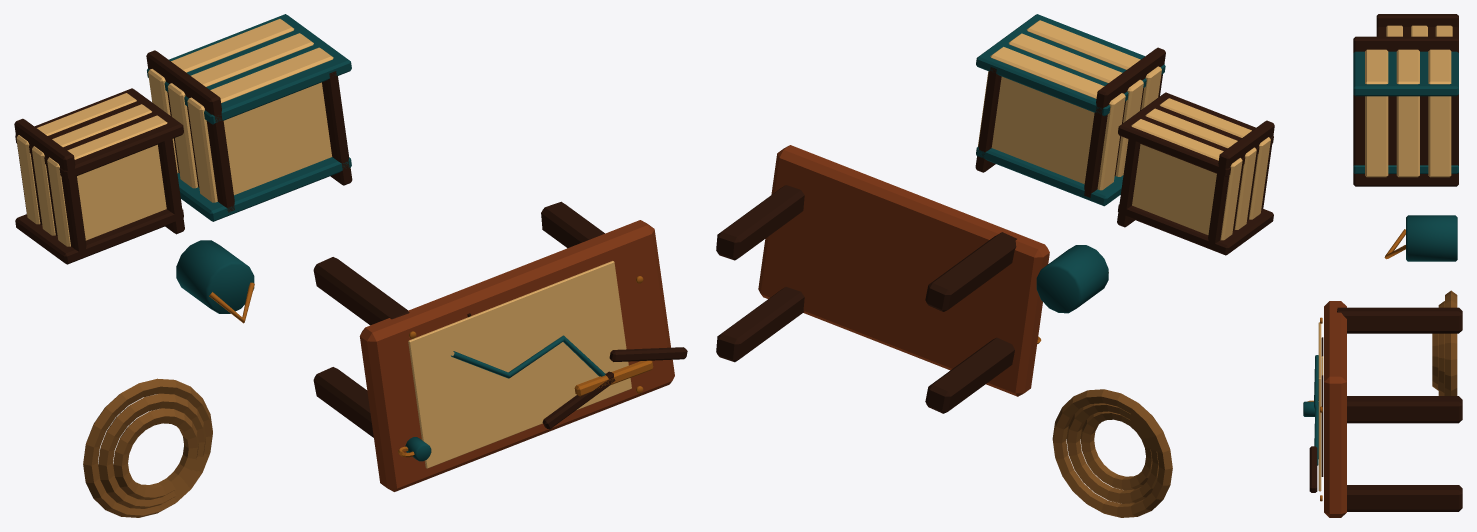
The model's file is SM_LT_HubSlice_WorkCluster.obj.
3 views of the same model, side by side, from view 1: azimuth 30°, elevation 25°; view 2: azimuth 150°, elevation 25°; view 3: azimuth 270°, elevation 25° (orthographic). The views are drawn at different scales.
Parts seen in each view (by area): view 1: SM_LT_HubSlice_WorkCluster.001; view 2: SM_LT_HubSlice_WorkCluster.001; view 3: SM_LT_HubSlice_WorkCluster.001.
Part boxes in pixels (<box>): SM_LT_HubSlice_WorkCluster.001: <box>14,14,687,517</box>; SM_LT_HubSlice_WorkCluster.001: <box>716,14,1274,517</box>; SM_LT_HubSlice_WorkCluster.001: <box>1303,14,1462,517</box>.
Size of the model in its own units: 423 by 322 by 124.
